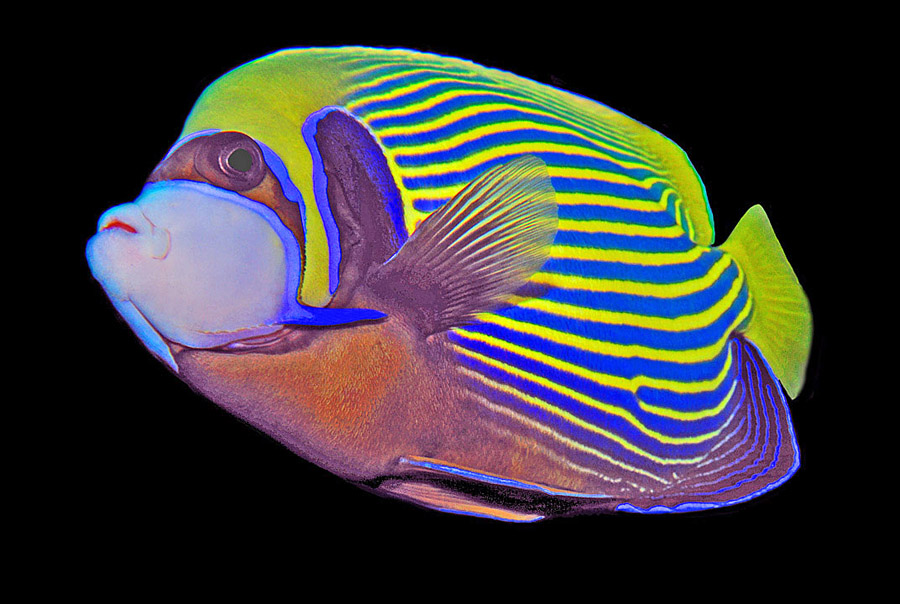Pomacanthus_imperator: (53, 11, 846, 531)
